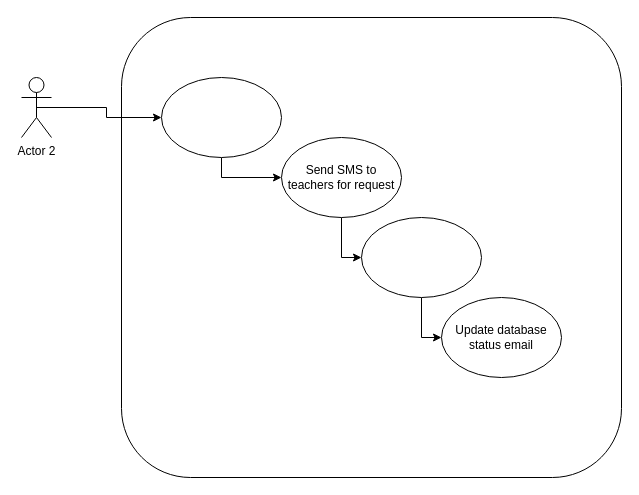
Some shapes in this 639 by 495 pixel diagram are drawn without their labels. The shapes that lost their labels are listed below. From the top down, each one's centre as x and y in pixels, then its label:
At [221,117]: "GET data from local database".
At [421,257]: "Wait for respond Yes/No".
